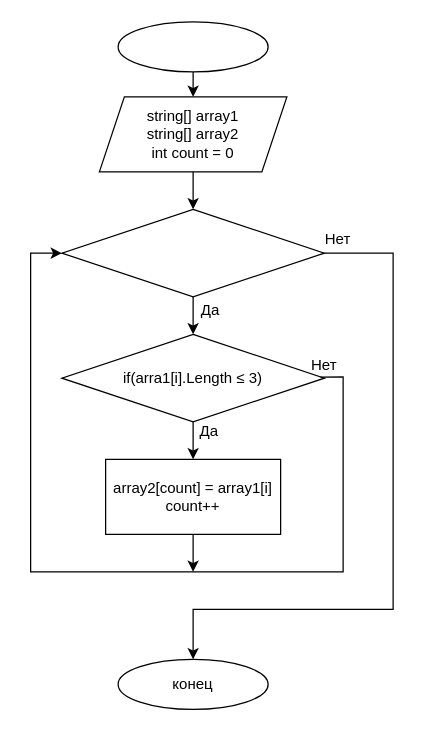
The diagram is 425 pixels wide and 731 high, and some of its shapes have lost their labels. Each missing label, with the centre of its shape:
"for (i=0; i < array1.Length, i++)" goes at point 192,252.
"начало" goes at point 192,46.
